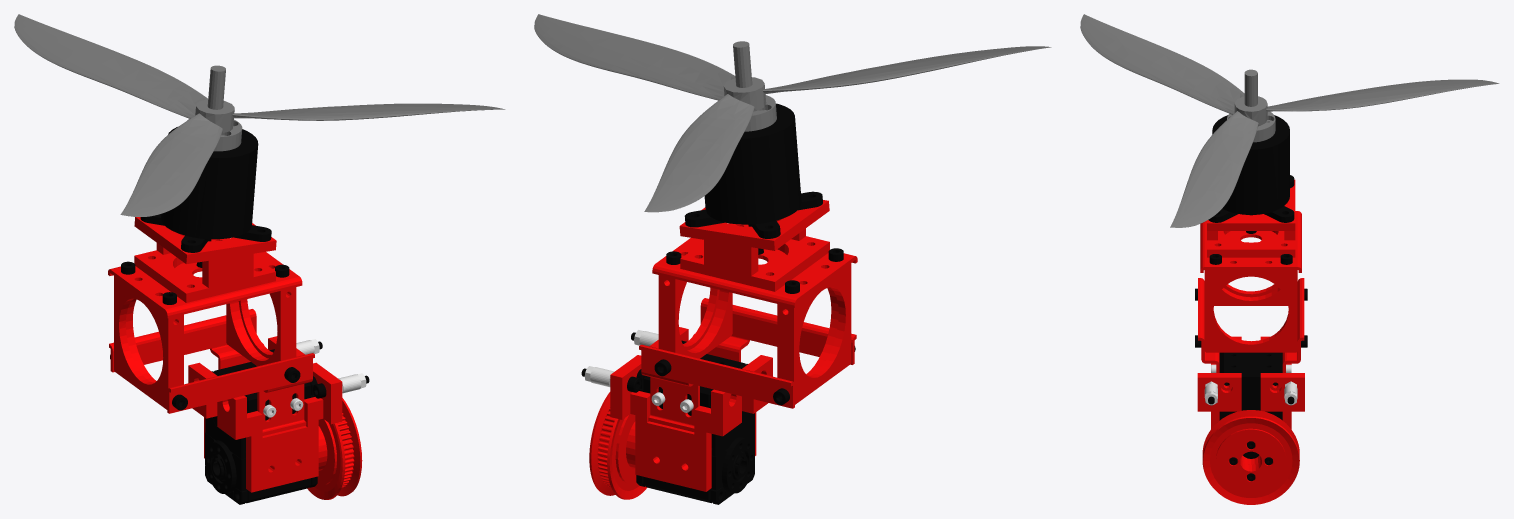
Rendered from link3_gimbal.dae.
The picture shows the model from 3 angles, left to right: view 1: azimuth 30°, elevation 25°; view 2: azimuth 150°, elevation 25°; view 3: azimuth 270°, elevation 25°; orthographic projection. The views are drawn at different scales.
Parts seen in each view (by area): view 1: link_3_gimbal - gimbal_rotation_base-1 gimbal_servo_with_ho. (×9), link_3_gimbal - tmotor_at2814_with_9inch_prop-2 9inch_prop-1, link_3_gimbal - gimbal_rotation_base-1 gimbal_roll_holder_PL (×2), link_3_gimbal - motor_mount_link3-1, link_3_gimbal - tmotor_at2814_with_9inch_prop-2 t_motor_at28, link_3_gimbal - gimbal_rotation_base-1 gimbal_upper_plate-1, link_3_gimbal - tmotor_at2814_with_9inch_prop-2 t_motor_at2., link_3_gimbal - tmotor_at2814_with_9inch_prop-2 t_motor_at2; view 2: link_3_gimbal - gimbal_rotation_base-1 gimbal_servo_with_ho. (×9), link_3_gimbal - tmotor_at2814_with_9inch_prop-2 9inch_prop-1, link_3_gimbal - gimbal_rotation_base-1 gimbal_roll_holder_PL (×2), link_3_gimbal - tmotor_at2814_with_9inch_prop-2 t_motor_at28, link_3_gimbal - motor_mount_link3-1, link_3_gimbal - gimbal_rotation_base-1 gimbal_upper_plate-1, link_3_gimbal - tmotor_at2814_with_9inch_prop-2 t_motor_at2., link_3_gimbal - tmotor_at2814_with_9inch_prop-2 t_motor_at2; view 3: link_3_gimbal - gimbal_rotation_base-1 gimbal_servo_with_ho. (×7), link_3_gimbal - tmotor_at2814_with_9inch_prop-2 9inch_prop-1, link_3_gimbal - gimbal_rotation_base-1 gimbal_roll_holder_PL (×2), link_3_gimbal - tmotor_at2814_with_9inch_prop-2 t_motor_at28, link_3_gimbal - motor_mount_link3-1, link_3_gimbal - gimbal_rotation_base-1 gimbal_upper_plate-1, link_3_gimbal - tmotor_at2814_with_9inch_prop-2 t_motor_at2., link_3_gimbal - tmotor_at2814_with_9inch_prop-2 t_motor_at2.
Part boxes in pixels (x1=…): link_3_gimbal - gimbal_rotation_base-1 gimbal_servo_with_ho. (×9): x1=109, y1=309, x2=362, y2=503; link_3_gimbal - tmotor_at2814_with_9inch_prop-2 9inch_prop-1: x1=14, y1=14, x2=505, y2=216; link_3_gimbal - gimbal_rotation_base-1 gimbal_roll_holder_PL (×2): x1=114, y1=276, x2=296, y2=409; link_3_gimbal - motor_mount_link3-1: x1=134, y1=217, x2=276, y2=302; link_3_gimbal - tmotor_at2814_with_9inch_prop-2 t_motor_at28: x1=161, y1=127, x2=258, y2=267; link_3_gimbal - gimbal_rotation_base-1 gimbal_upper_plate-1: x1=108, y1=252, x2=302, y2=318; link_3_gimbal - tmotor_at2814_with_9inch_prop-2 t_motor_at2.: x1=187, y1=65, x2=242, y2=151; link_3_gimbal - tmotor_at2814_with_9inch_prop-2 t_motor_at2: x1=140, y1=214, x2=271, y2=252; link_3_gimbal - gimbal_rotation_base-1 gimbal_servo_with_ho. (×9): x1=589, y1=298, x2=856, y2=503; link_3_gimbal - tmotor_at2814_with_9inch_prop-2 9inch_prop-1: x1=534, y1=14, x2=1051, y2=212; link_3_gimbal - gimbal_rotation_base-1 gimbal_roll_holder_PL (×2): x1=658, y1=263, x2=851, y2=404; link_3_gimbal - tmotor_at2814_with_9inch_prop-2 t_motor_at28: x1=704, y1=103, x2=801, y2=254; link_3_gimbal - motor_mount_link3-1: x1=679, y1=200, x2=829, y2=291; link_3_gimbal - gimbal_rotation_base-1 gimbal_upper_plate-1: x1=652, y1=238, x2=857, y2=307; link_3_gimbal - tmotor_at2814_with_9inch_prop-2 t_motor_at2.: x1=733, y1=41, x2=776, y2=131; link_3_gimbal - tmotor_at2814_with_9inch_prop-2 t_motor_at2: x1=684, y1=191, x2=822, y2=238; link_3_gimbal - gimbal_rotation_base-1 gimbal_servo_with_ho. (×7): x1=1197, y1=278, x2=1304, y2=504; link_3_gimbal - tmotor_at2814_with_9inch_prop-2 9inch_prop-1: x1=1080, y1=14, x2=1499, y2=227; link_3_gimbal - gimbal_rotation_base-1 gimbal_roll_holder_PL (×2): x1=1204, y1=270, x2=1297, y2=352; link_3_gimbal - tmotor_at2814_with_9inch_prop-2 t_motor_at28: x1=1212, y1=115, x2=1289, y2=233; link_3_gimbal - motor_mount_link3-1: x1=1207, y1=179, x2=1295, y2=257; link_3_gimbal - gimbal_rotation_base-1 gimbal_upper_plate-1: x1=1200, y1=211, x2=1301, y2=272; link_3_gimbal - tmotor_at2814_with_9inch_prop-2 t_motor_at2.: x1=1227, y1=69, x2=1275, y2=142; link_3_gimbal - tmotor_at2814_with_9inch_prop-2 t_motor_at2: x1=1208, y1=175, x2=1294, y2=222.
Bounding box in the file's own units: 0.1939 × 0.1896 × 0.1922.
